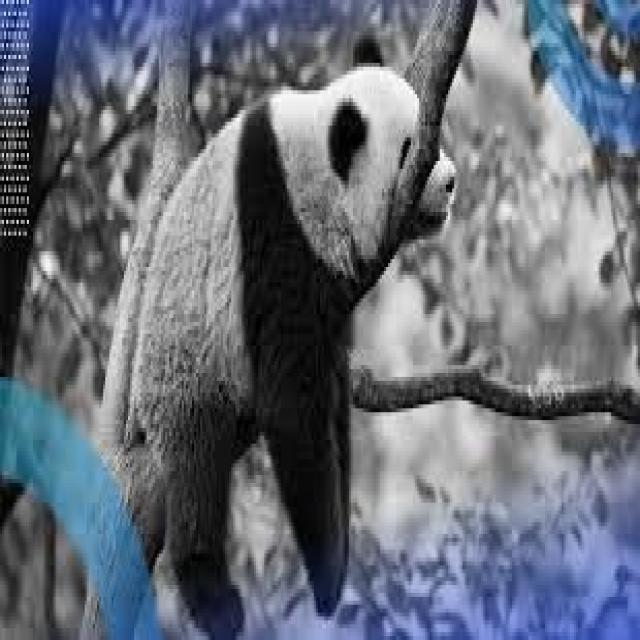Panda: (145, 50, 459, 640)
